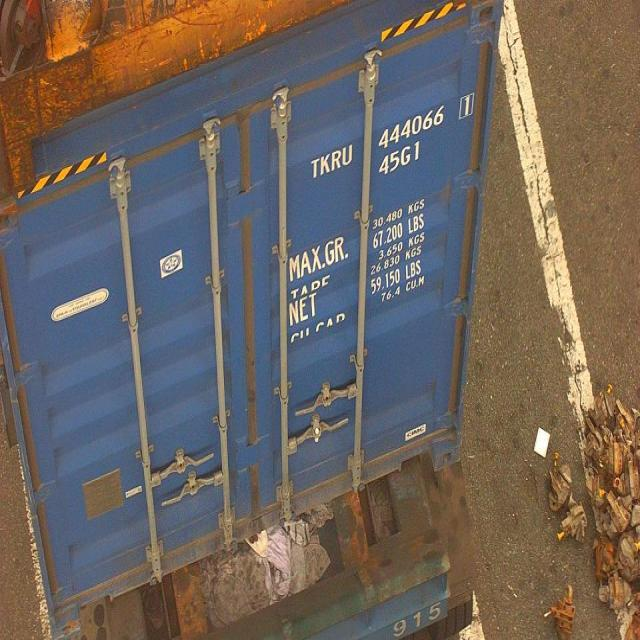ISO: (375, 136, 423, 184)
container_number: (308, 82, 478, 182)
